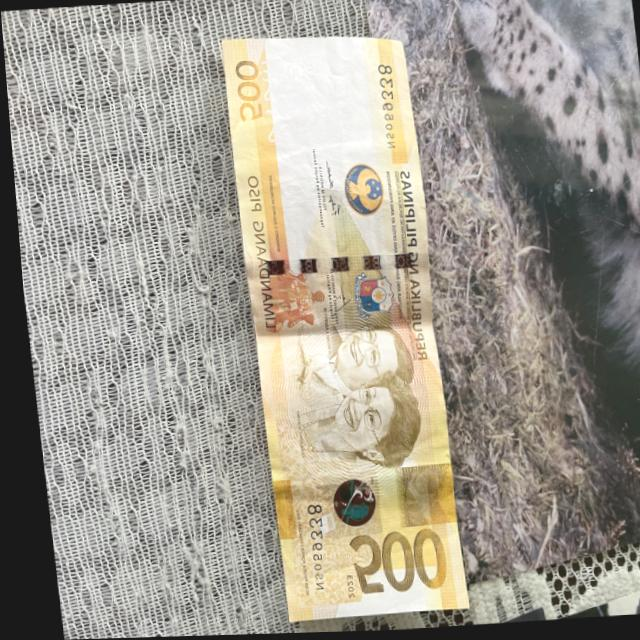concealed_value: (385, 466, 447, 530)
optically_variable_device: (318, 475, 372, 535)
security_thread: (243, 251, 422, 282)
see_through_mark: (254, 59, 279, 146)
serial_number: (369, 60, 404, 166), (294, 504, 321, 595)
value: (336, 529, 440, 599)
value_watermark: (281, 60, 315, 86)
